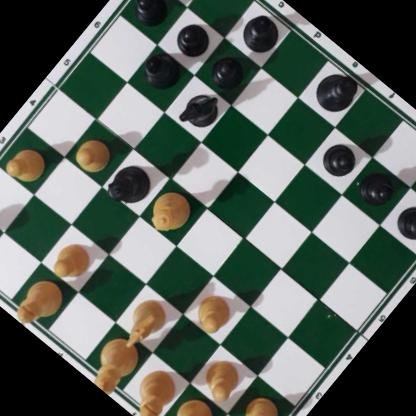black-bishop: (236, 6, 289, 58), (134, 45, 186, 96)
black-king: (308, 61, 367, 120)
black-knight: (176, 83, 226, 134)
black-pawn: (355, 165, 402, 212), (318, 134, 365, 181), (170, 15, 217, 62), (206, 47, 252, 93), (130, 0, 176, 29), (391, 197, 416, 248)
black-queen: (100, 157, 159, 217)
white-bishop: (10, 271, 71, 335), (121, 362, 184, 416)
white-king: (80, 328, 148, 398)
white-knight: (114, 292, 174, 355)
white-pawn: (196, 351, 251, 406), (1, 138, 52, 189), (47, 235, 98, 286), (69, 129, 119, 180), (189, 286, 239, 337), (237, 388, 289, 416)
white-queen: (141, 183, 199, 242)
white-rook: (161, 394, 221, 416)
